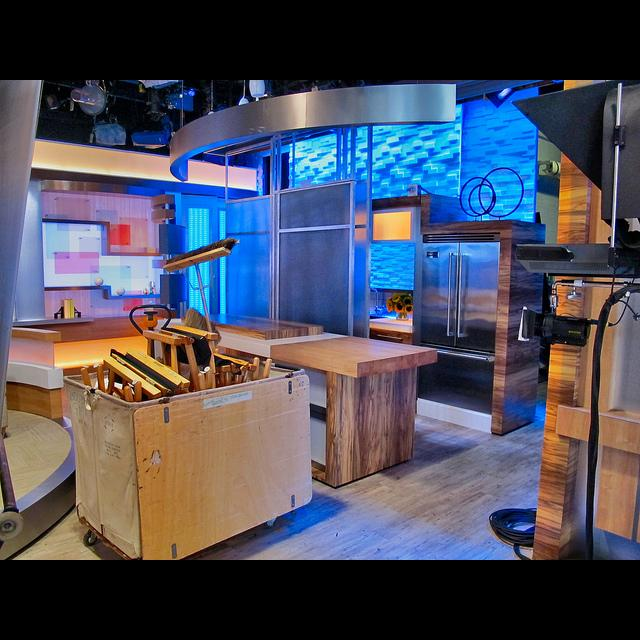Refrigerator: (412, 232, 498, 417)
